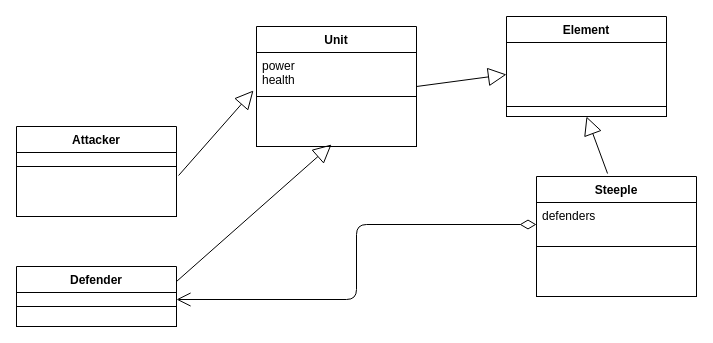
This 713x343 diagram has some shape labels left out. Each missing label, with the centre of its shape:
add: (616,271)
increaseHealth decreaseHealth: (336,121)
move: (96,191)
x y width height: (586,74)
